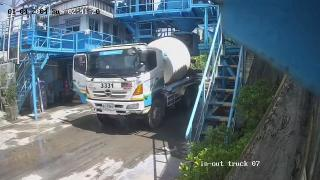cement_mixer_truck: (73, 36, 202, 128)
